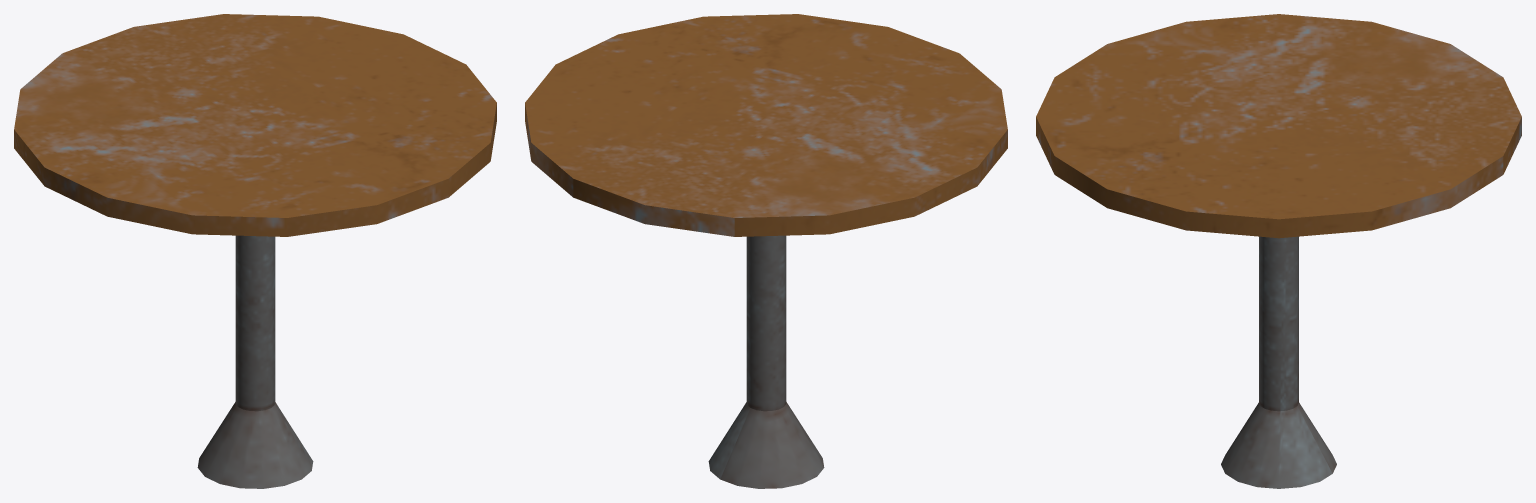
File: SM_table_01.fbx
3 renders of one model, left to right at view 1: azimuth 30°, elevation 25°; view 2: azimuth 150°, elevation 25°; view 3: azimuth 270°, elevation 25°, orthographic.
Parts seen in each view (by area): view 1: SM_table_01; view 2: SM_table_01; view 3: SM_table_01.
Boxes of the visible parts, x1=… form: SM_table_01: x1=14, y1=14, x2=496, y2=488; SM_table_01: x1=525, y1=14, x2=1007, y2=488; SM_table_01: x1=1036, y1=14, x2=1521, y2=488.
Size of the model in its own units: 156 by 123 by 156.
